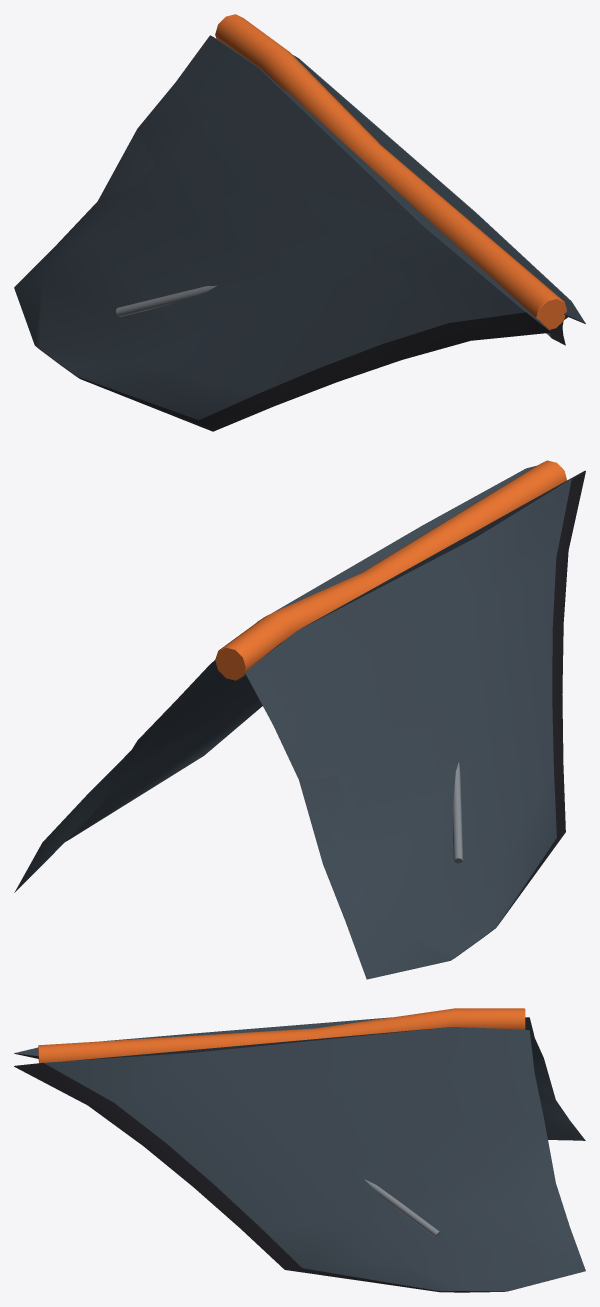
The model's file is bastion_tail_ep.fbx.
3 renders of one model, top to bottom at view 1: azimuth 30°, elevation 25°; view 2: azimuth 150°, elevation 25°; view 3: azimuth 270°, elevation 25°, orthographic. The views are drawn at different scales.
Parts seen in each view (by area): view 1: Tail_V; view 2: Tail_V; view 3: Tail_V.
Boxes of the visible parts, x1,y1,x2,y2 form: Tail_V: (14, 14, 585, 431); Tail_V: (14, 460, 585, 979); Tail_V: (14, 1008, 585, 1292).
Bounding box in the file's own units: 74.77 × 46.2 × 116.
